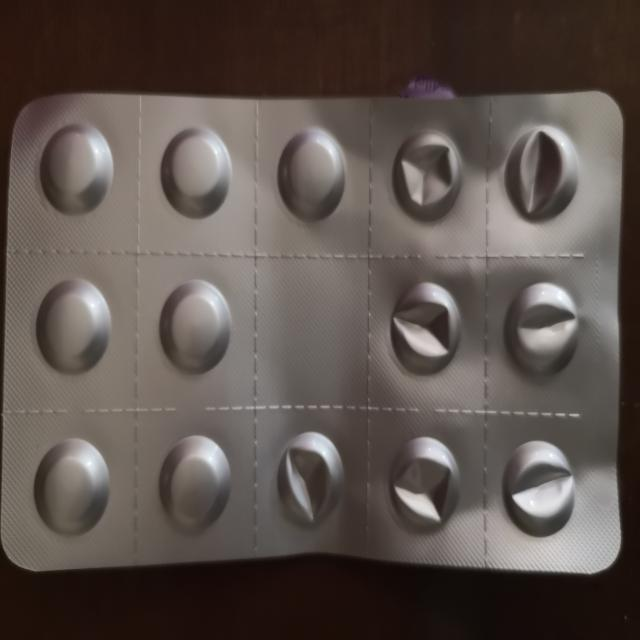Empty: (498, 118, 583, 230), (382, 274, 464, 382), (384, 431, 467, 537), (502, 429, 580, 541), (499, 272, 579, 379), (383, 126, 468, 225), (271, 424, 346, 530)
Pill: (28, 431, 116, 540), (152, 428, 233, 537), (155, 275, 235, 382), (32, 274, 112, 381), (273, 119, 351, 225), (154, 120, 234, 222), (35, 116, 111, 222)
